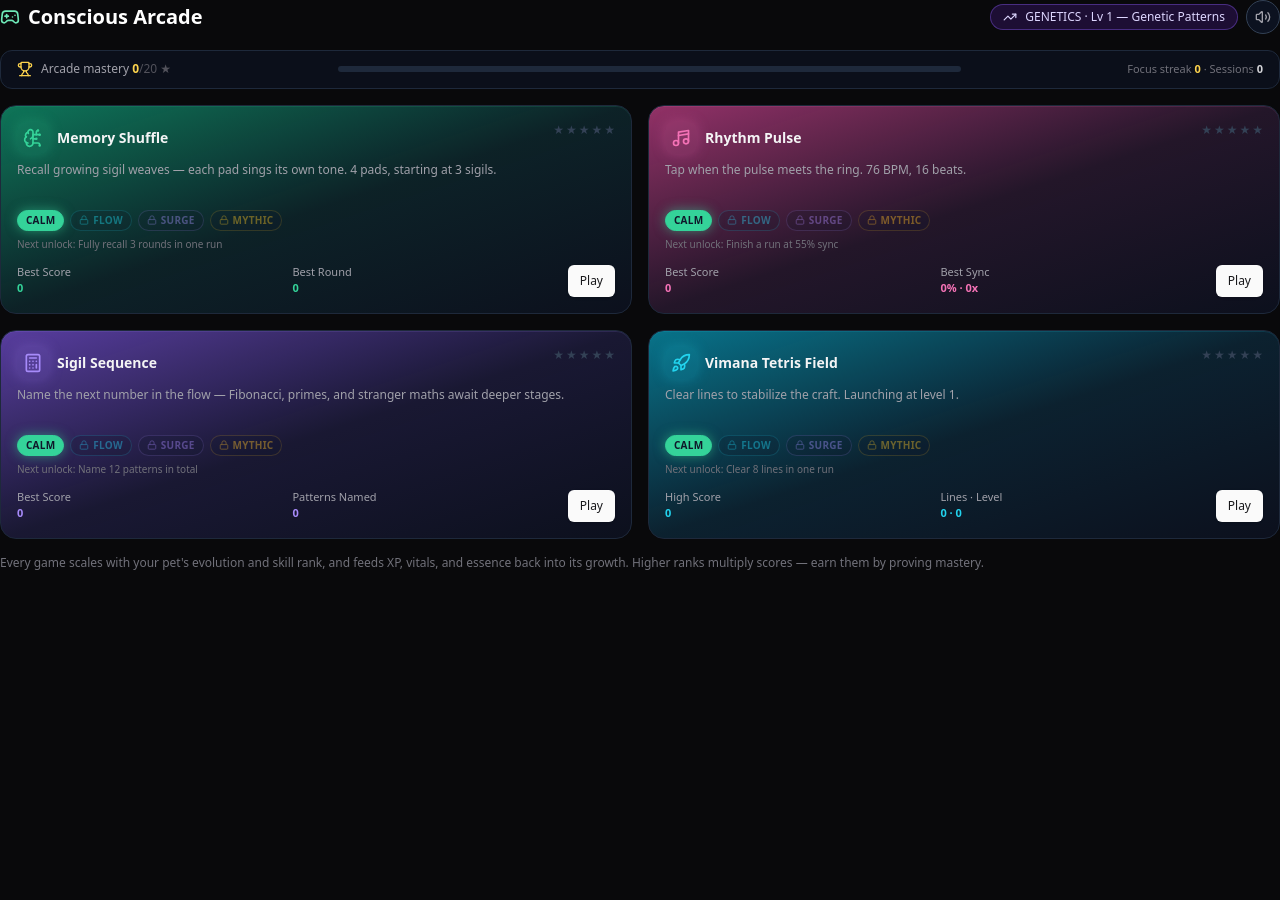
it: full-screen overlays › opens the minigame above the page shell and Close restores the arcade
Click the button "Play" in the row of "Lines · Level".
click(1239, 506)  # box [1216,490,1263,522]
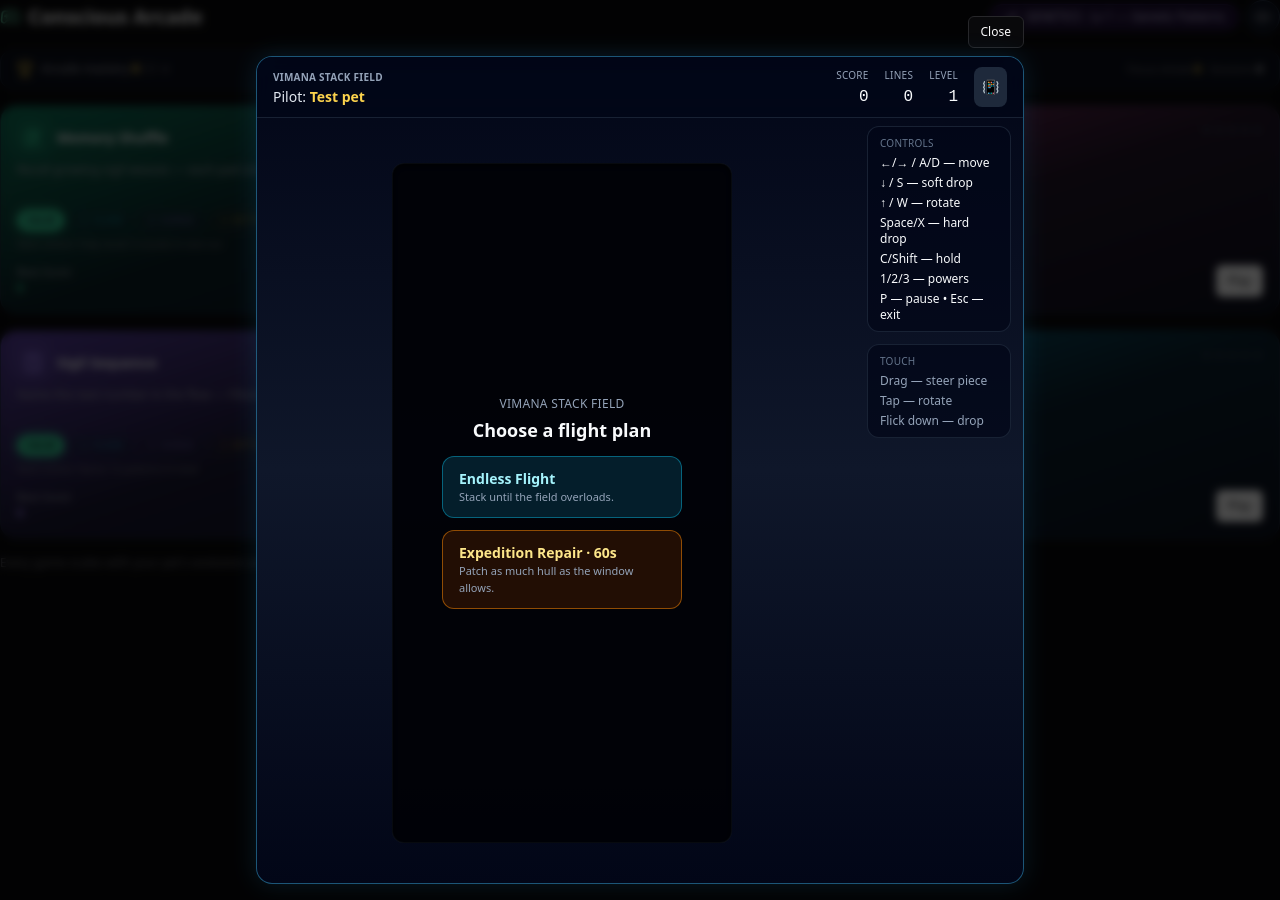
Click the button "Close".
click(996, 32)  # box [968,16,1024,48]
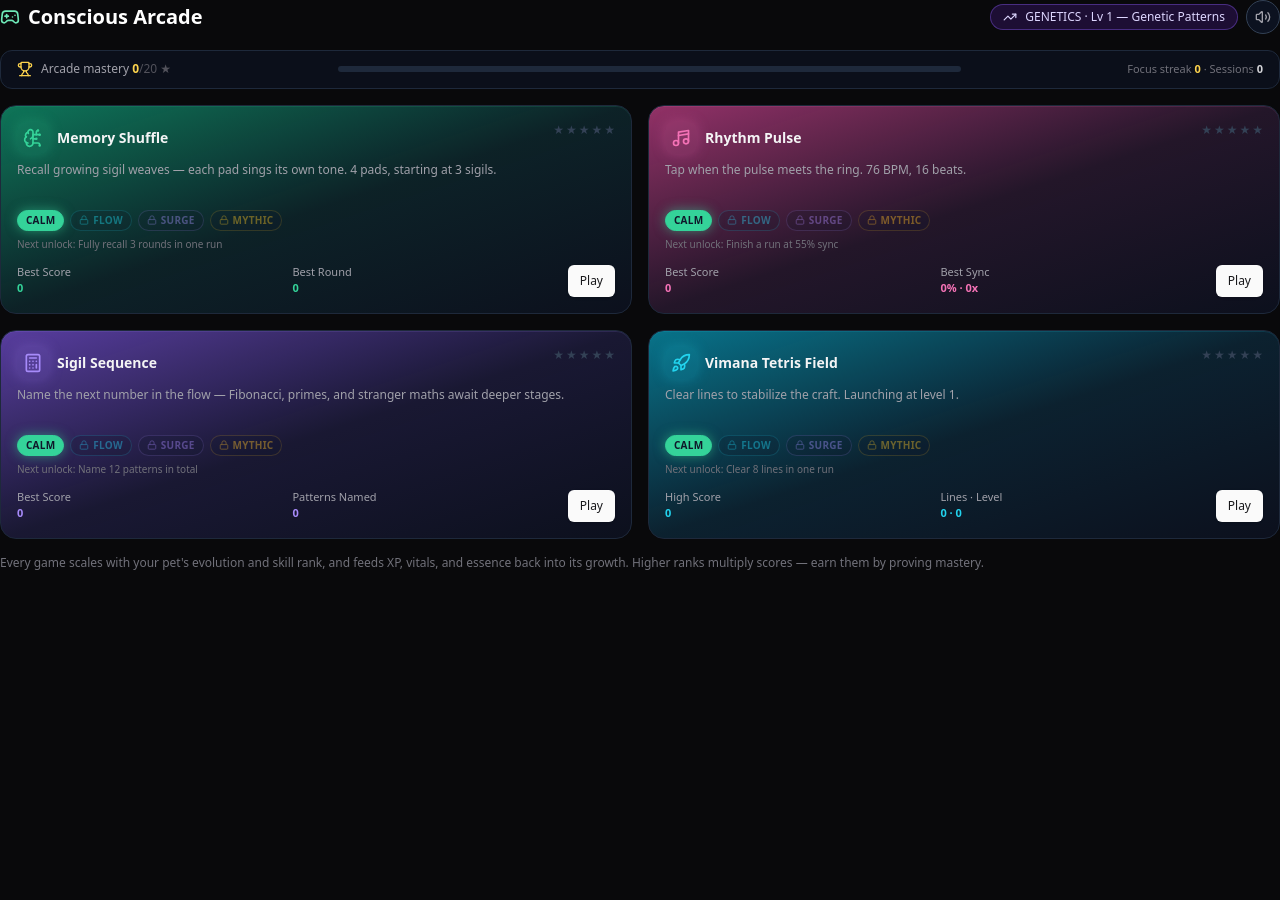
Expected: the dialog is gone
